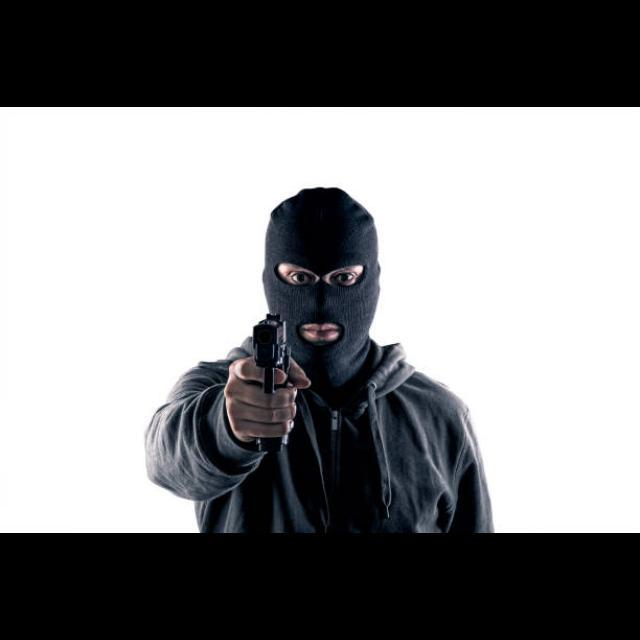criminal: (145, 187, 495, 534)
weapon: (251, 312, 295, 399)
